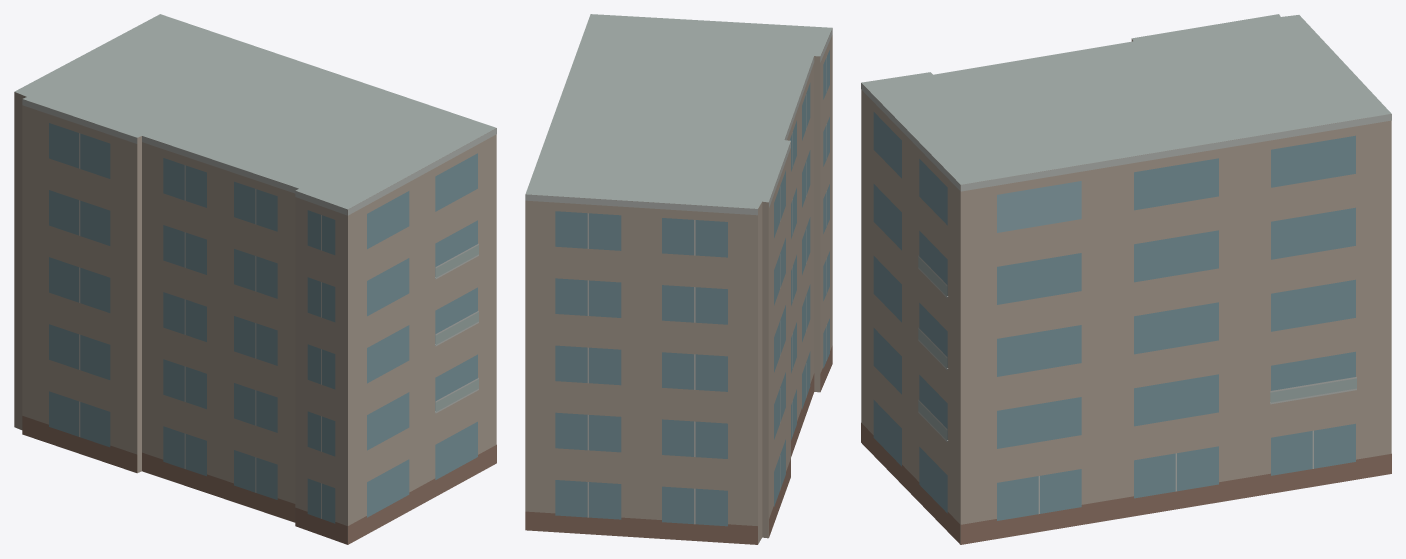
File: survey-upis-32884321.glb
3 views of the same model, side by side, from view 1: azimuth 30°, elevation 25°; view 2: azimuth 150°, elevation 25°; view 3: azimuth 270°, elevation 25° (orthographic). The views are drawn at different scales.
Parts seen in each view (by area): view 1: survey-upis-32884321.tmp; view 2: survey-upis-32884321.tmp; view 3: survey-upis-32884321.tmp.
Boxes of the visible parts, x1,y1,x2,y2 form: survey-upis-32884321.tmp: [14, 14, 496, 544]; survey-upis-32884321.tmp: [525, 14, 832, 544]; survey-upis-32884321.tmp: [861, 14, 1391, 544].
Size of the model in its own units: 13.24 by 13 by 17.37.
